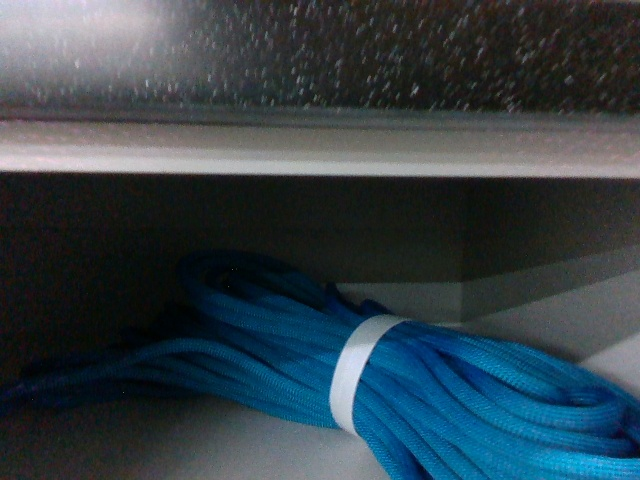rope: (148, 271, 640, 480)
